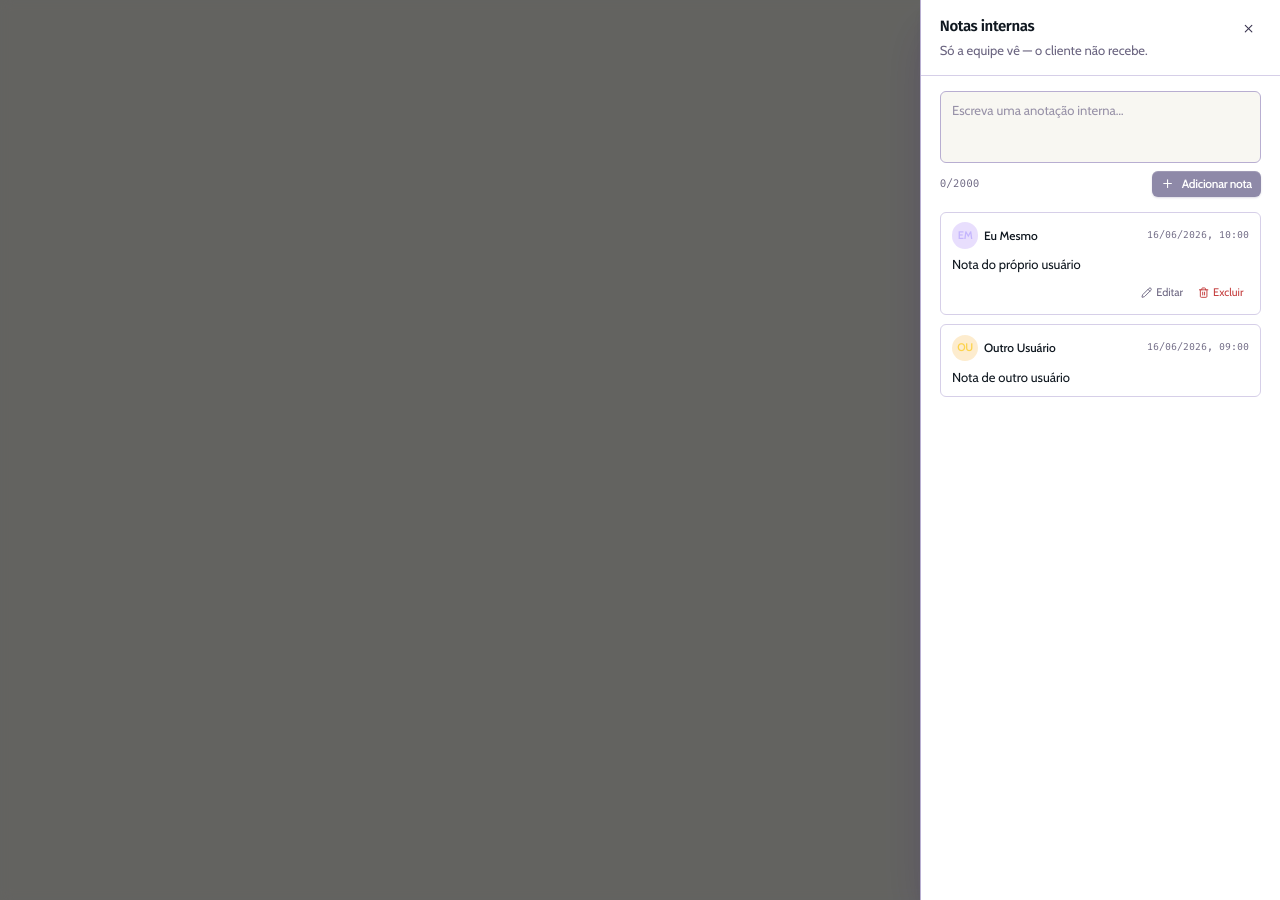
NotasInternasDrawer › cancelar edição esconde o textarea de edição
Click the button with test id "inbox-nota-editar-nota-1": point(1162, 292) [1136,280,1189,304]
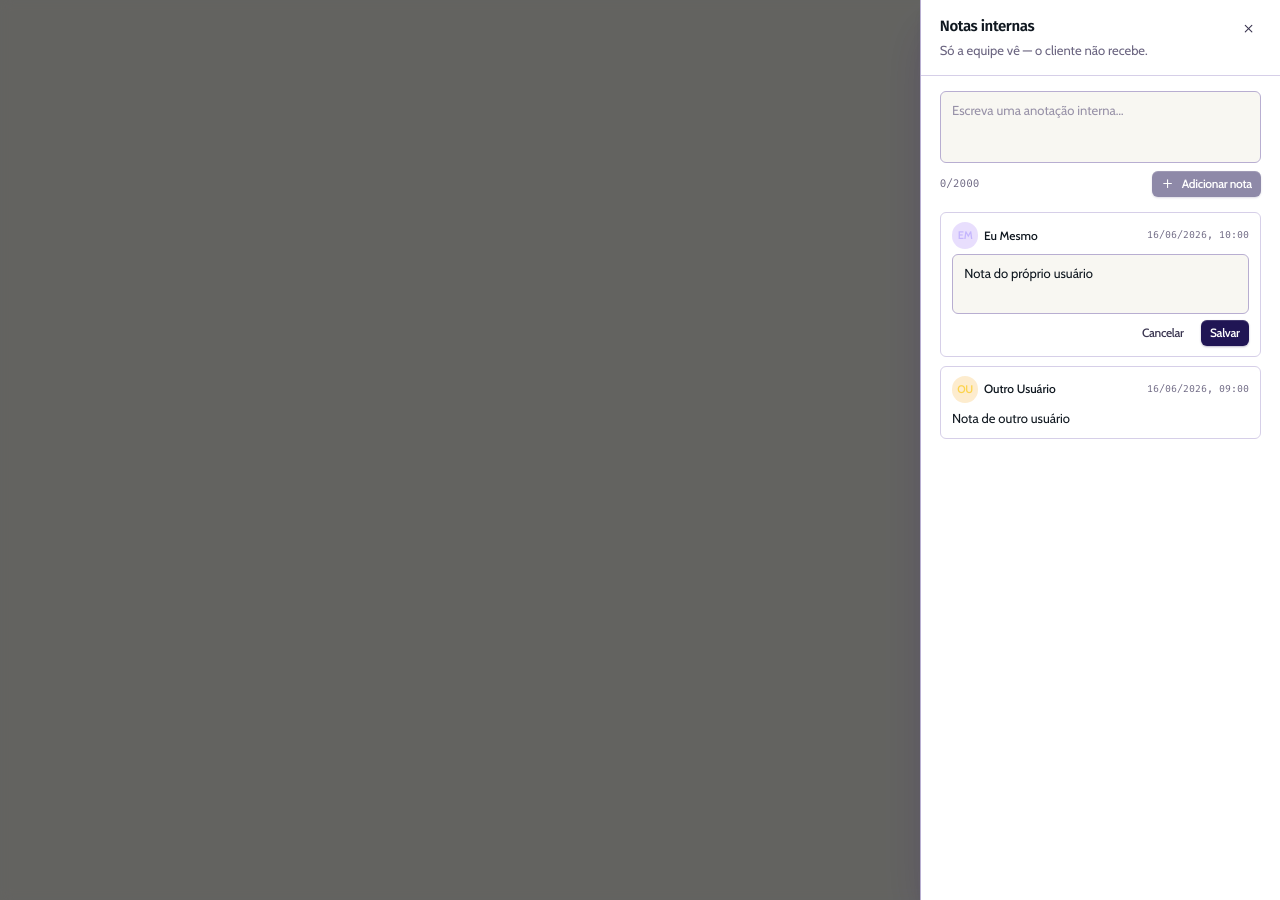
Expected: the text box with test id "inbox-nota-edit-input-nota-1" is shown, [952,254,1249,314]
Click the button with test id "inbox-nota-edit-cancel-nota-1": point(1163, 333) [1133,320,1193,346]
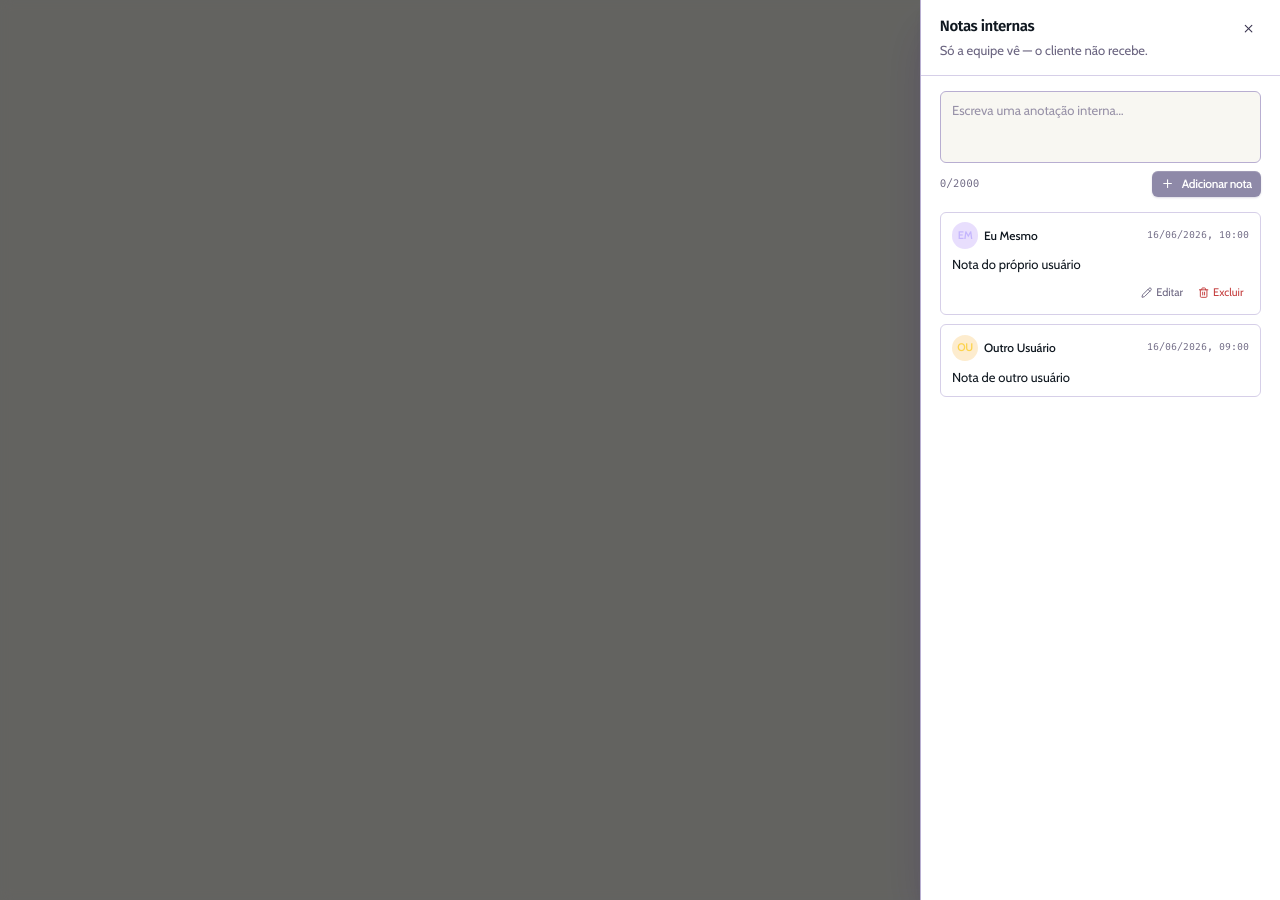
Expected: the text box with test id "inbox-nota-edit-input-nota-1" is gone
